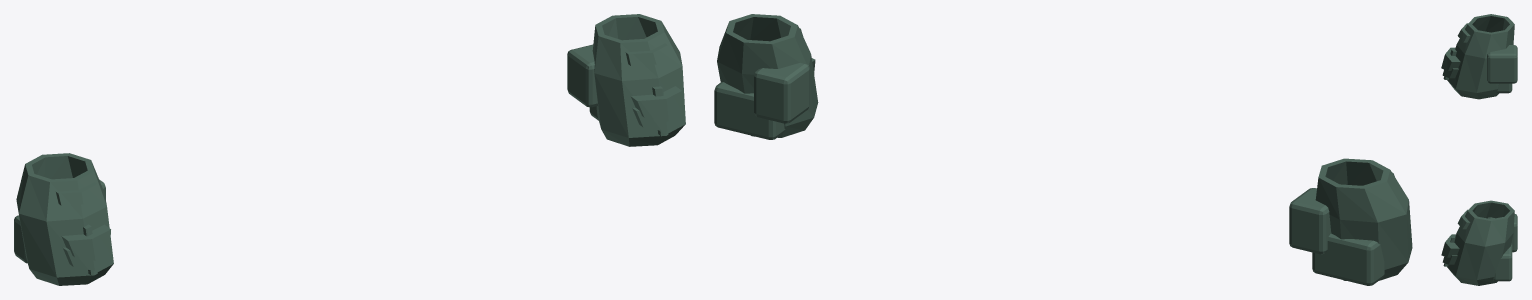
The model's file is leather_hands-male-scaledHide.glb.
The picture shows the model from 3 angles, left to right: view 1: azimuth 30°, elevation 25°; view 2: azimuth 150°, elevation 25°; view 3: azimuth 270°, elevation 25°; orthographic projection. The views are drawn at different scales.
Parts seen in each view (by area): view 1: Block hand armor -1, Block hand armor 1, Block thumb armor 1, Lapped hide reinforcement Block hand armor 1 0, Lapped hide reinforcement Block hand armor -1 0, Glove turned wrist seam 1, Glove turned wrist seam -1, Lapped hide reinforcement Block hand armor 1 1, Lapped hide reinforcement Block hand armor -1 1; view 2: Block hand armor -1, Block hand armor 1, Block thumb armor 1, Block hand curl armor -1, Block hand curl armor 1, Block thumb armor -1; view 3: Block hand armor 1, Block hand armor -1, Block thumb armor -1, Block hand curl armor 1, Lapped hide reinforcement Block hand armor -1 0, Lapped hide reinforcement Block hand armor 1 0, Block thumb armor 1, Block hand curl armor -1, Glove turned wrist seam -1, Glove turned wrist seam 1, Lapped hide reinforcement Block hand armor -1 1, Lapped hide reinforcement Block hand armor 1 1.
Part boxes in pixels (x1,y1,x2,y2): Block hand armor -1: (16,153,113,285); Block hand armor 1: (592,14,685,146); Block thumb armor 1: (567,44,597,107); Lapped hide reinforcement Block hand armor 1 0: (631,86,682,121); Lapped hide reinforcement Block hand armor -1 0: (61,224,110,260); Glove turned wrist seam 1: (625,43,670,66); Glove turned wrist seam -1: (56,182,99,205); Lapped hide reinforcement Block hand armor 1 1: (632,107,680,131); Lapped hide reinforcement Block hand armor -1 1: (63,247,109,270); Block hand armor -1: (1315,158,1412,280); Block hand armor 1: (717,14,818,137); Block thumb armor 1: (754,63,809,123); Block hand curl armor -1: (1312,233,1384,285); Block hand curl armor 1: (714,82,785,139); Block thumb armor -1: (1289,188,1331,254); Block hand armor 1: (1447,200,1514,285); Block hand armor -1: (1447,14,1514,99); Block thumb armor -1: (1487,45,1517,83); Block hand curl armor 1: (1493,243,1512,281); Lapped hide reinforcement Block hand armor -1 0: (1441,47,1460,70); Lapped hide reinforcement Block hand armor 1 0: (1441,234,1459,257); Block thumb armor 1: (1487,214,1517,252); Block hand curl armor -1: (1496,83,1512,93); Glove turned wrist seam -1: (1457,23,1470,42); Glove turned wrist seam 1: (1457,209,1470,229); Lapped hide reinforcement Block hand armor -1 1: (1442,68,1458,78); Lapped hide reinforcement Block hand armor 1 1: (1442,255,1457,264).
Bounding box in the file's own units: 3.73 × 0.52 × 0.5571.
